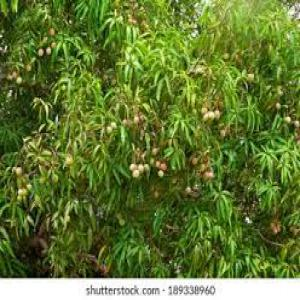Tree: (1, 0, 296, 268)
